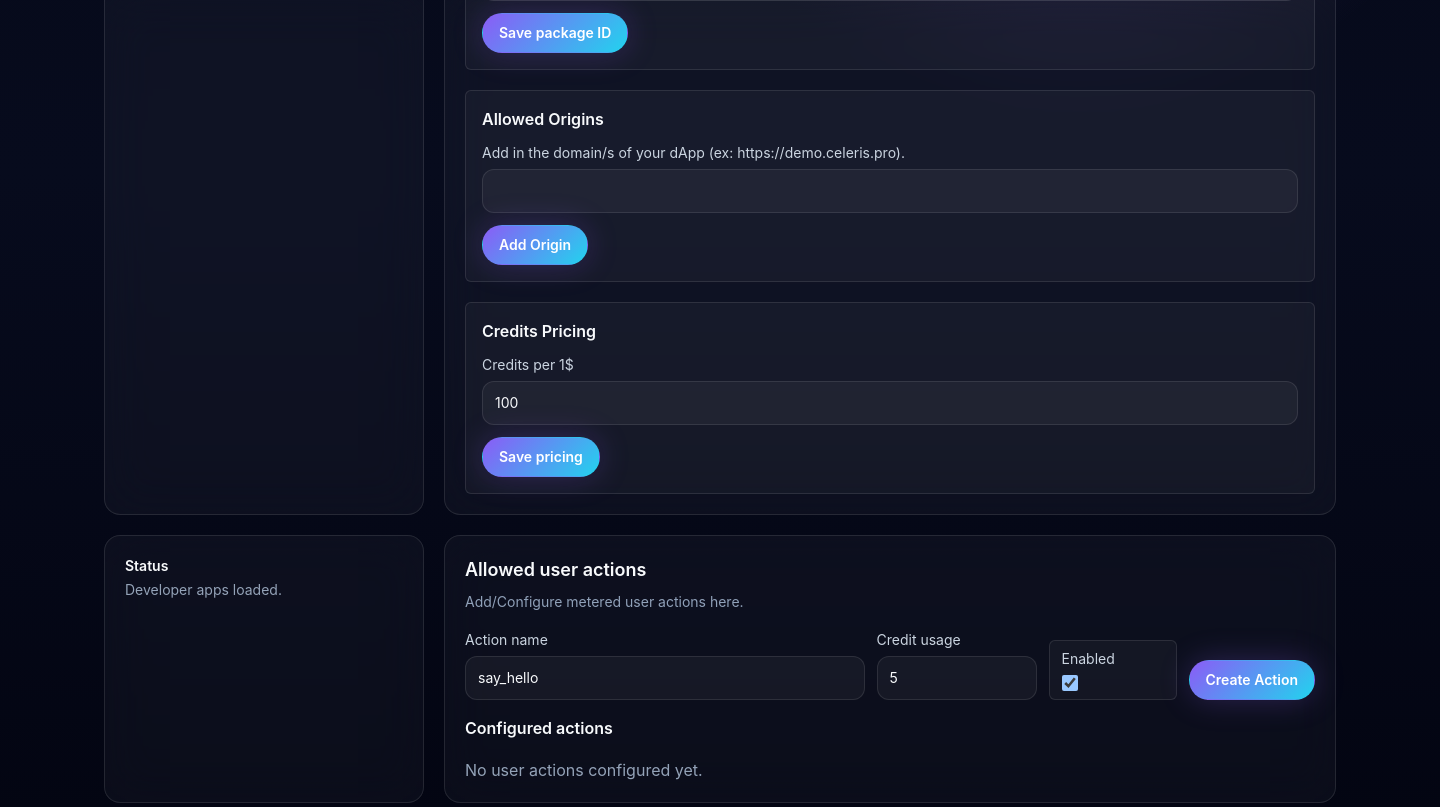
Test case: DeveloperSetupConsole › configures app-wide credits purchase pricing through the developer API
(page scrolled)
Replace the text in the field labelled "Credits per 1$" with "1500": point(890, 403) [482,381,1298,425]
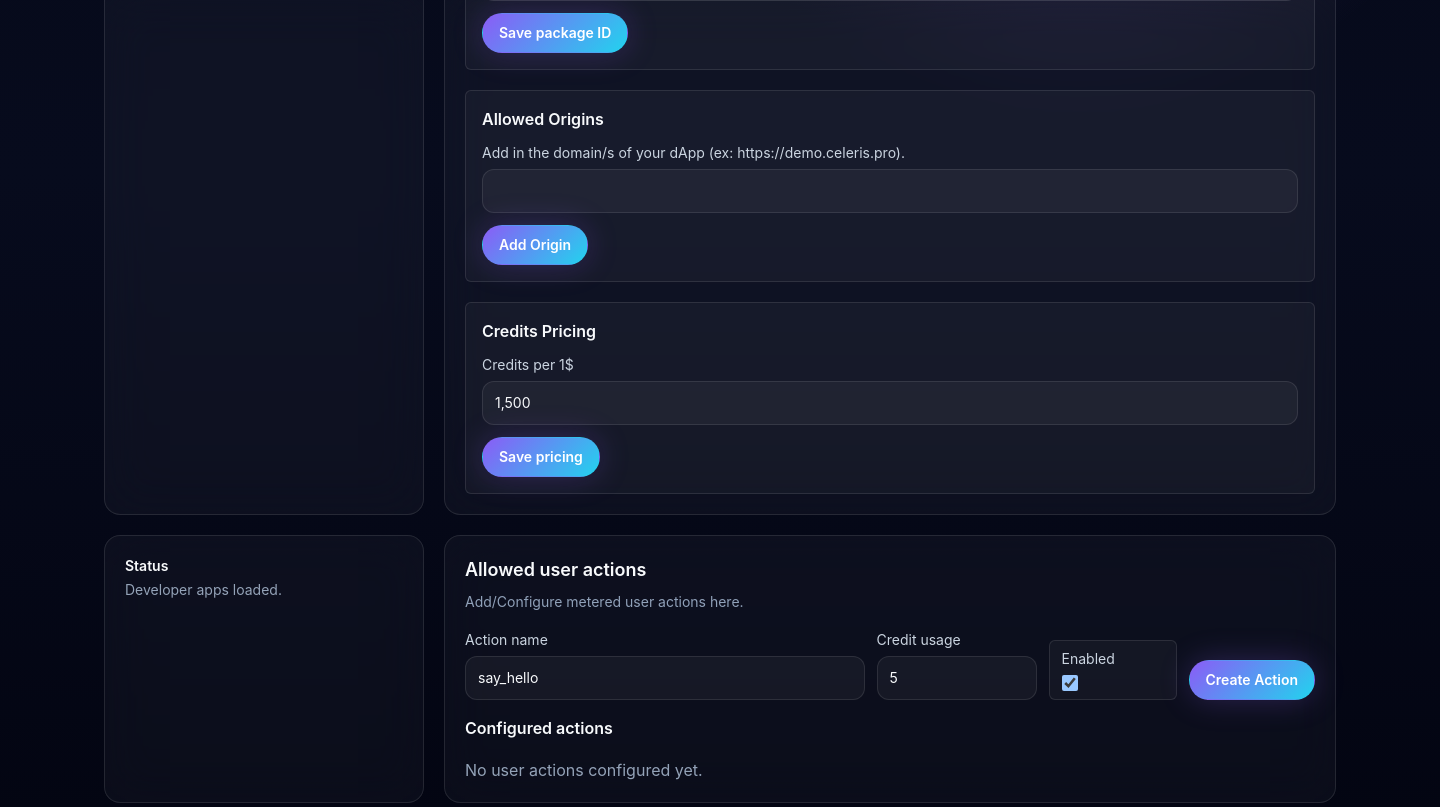
Expected: the field labelled "Credits per 1$" holds "1,500", [482,381,1298,425]
Click the button "Save pricing": point(541, 457) [482,437,600,477]
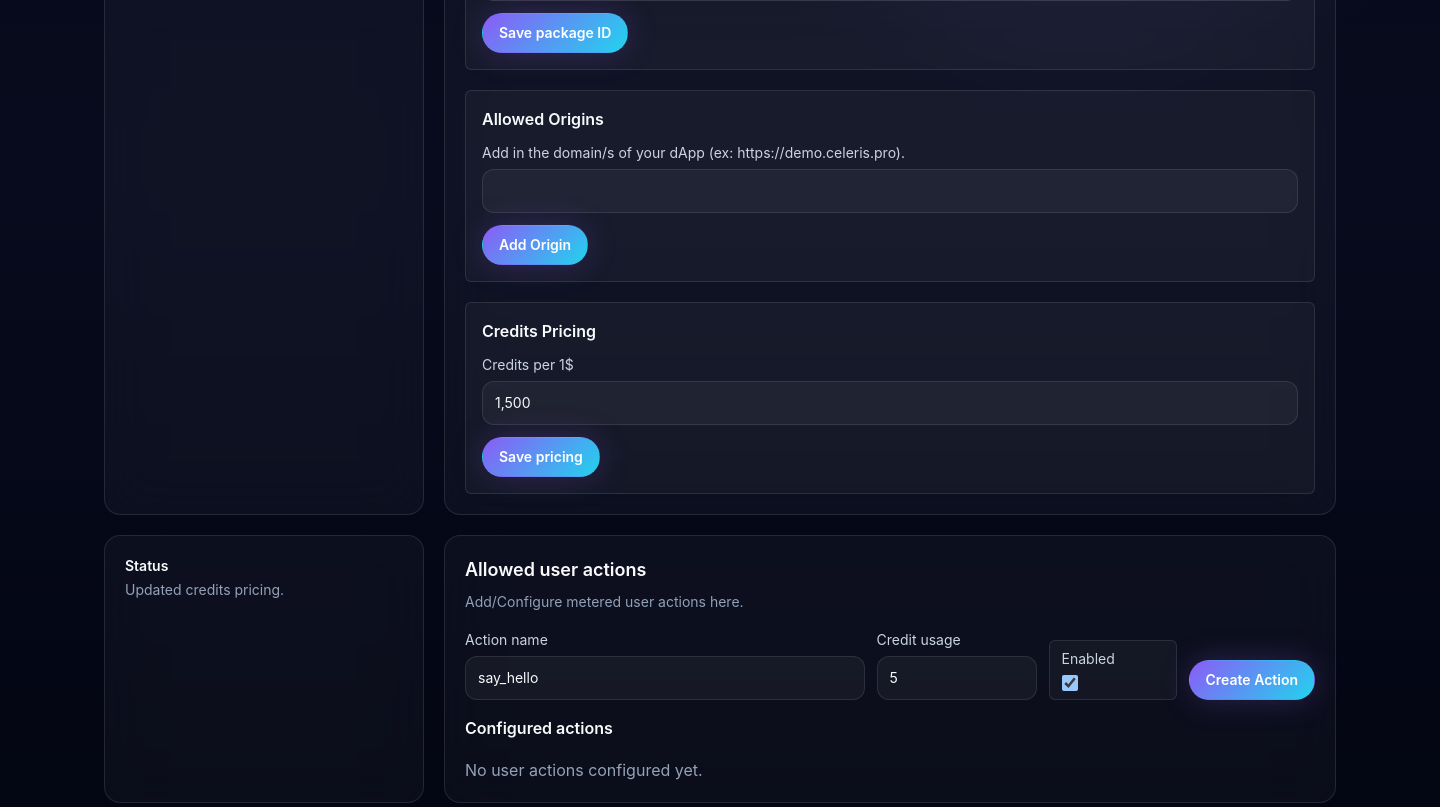
Expected: the text "Updated credits pricing." is shown, [125,580,284,600]
